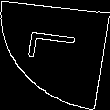L_E: (25, 36, 85, 74)
